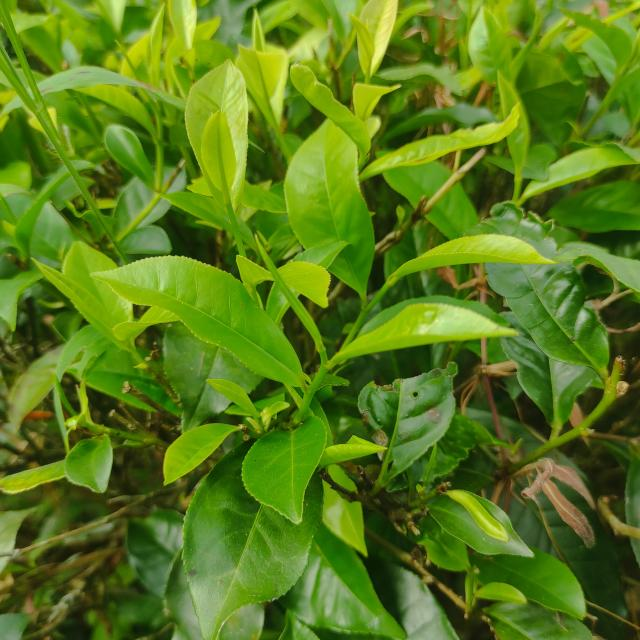unopened_leaf: (244, 227, 329, 368), (108, 34, 168, 119)
